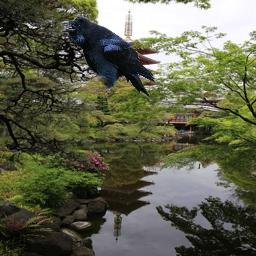Crow: (60, 16, 156, 99)
